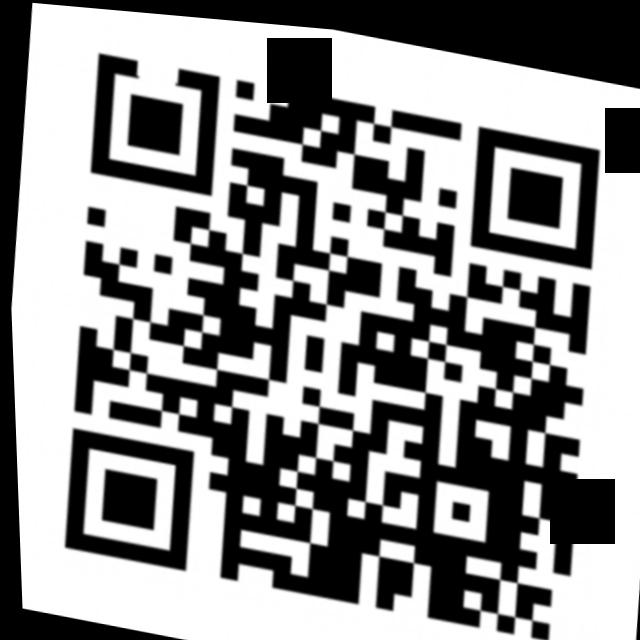QR_CODE: (22, 27, 636, 640)
